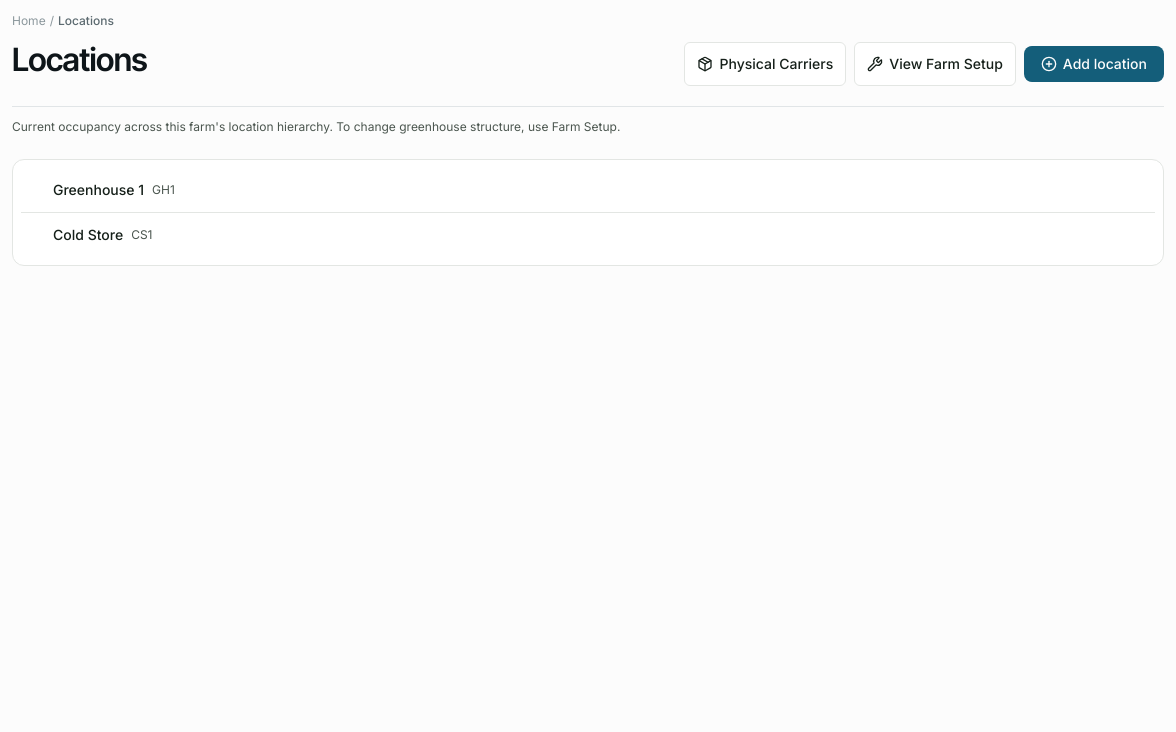
Test: LocationsPage › shows a friendly message on a 403 and never claims success
Expected: the text "Greenhouse 1" is shown, 53,180 -> 144,200
Click the button "Add location". click: (1094, 64)
box: 1024,46 -> 1164,82
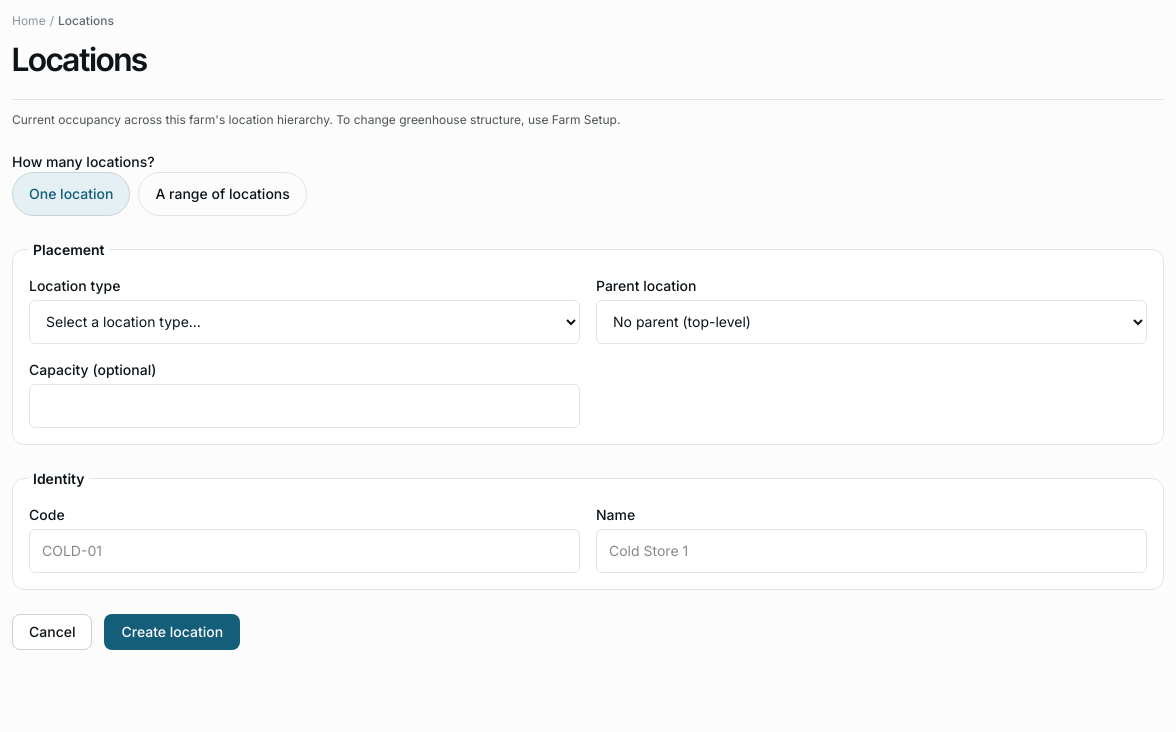
Select "Packing Hall" in the dropdown labelled "Location type". click: (304, 322)
box: 29,300 -> 580,344
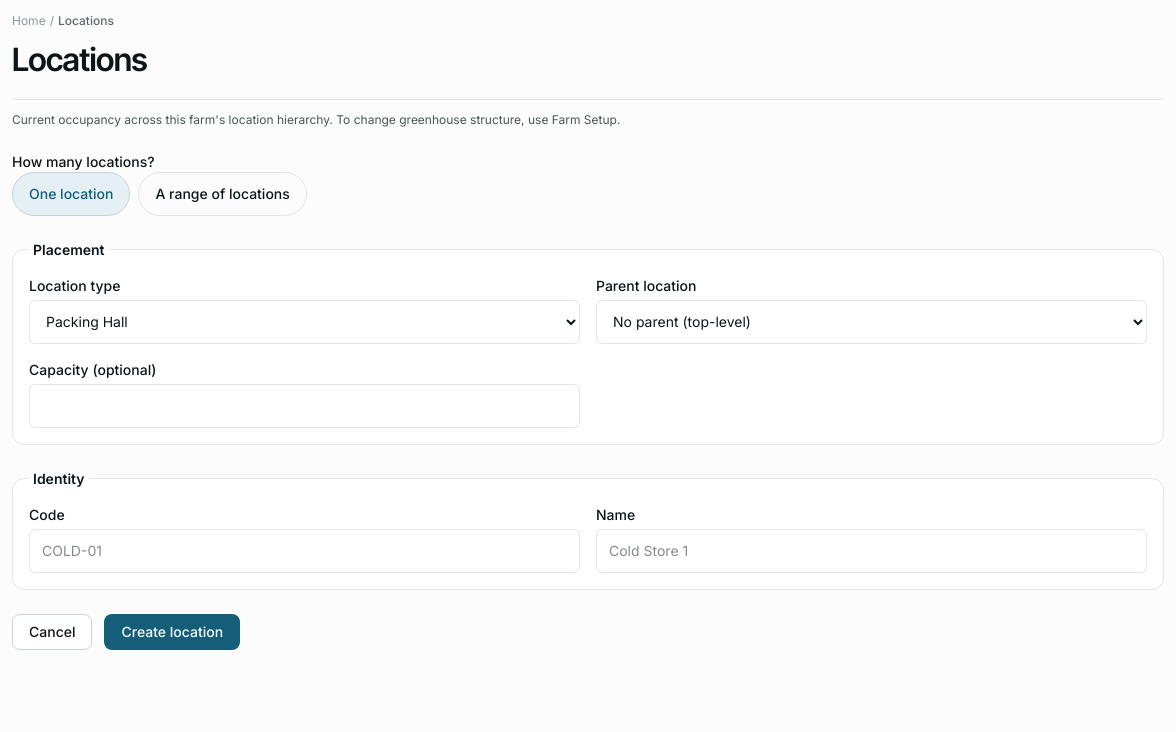
Type "PH1" into the field labelled "Code". click: (304, 551)
box: 29,529 -> 580,573
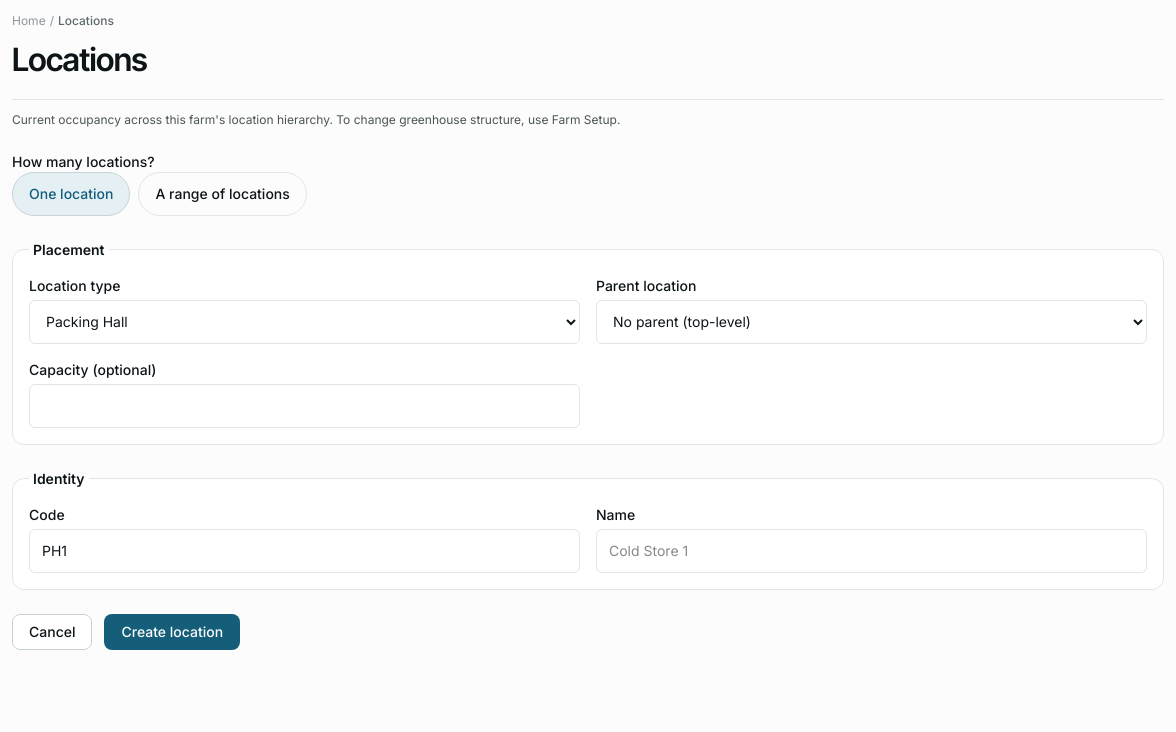
Type "Packing Hall 1" into the field labelled "Name". click: (872, 551)
box: 596,529 -> 1147,573
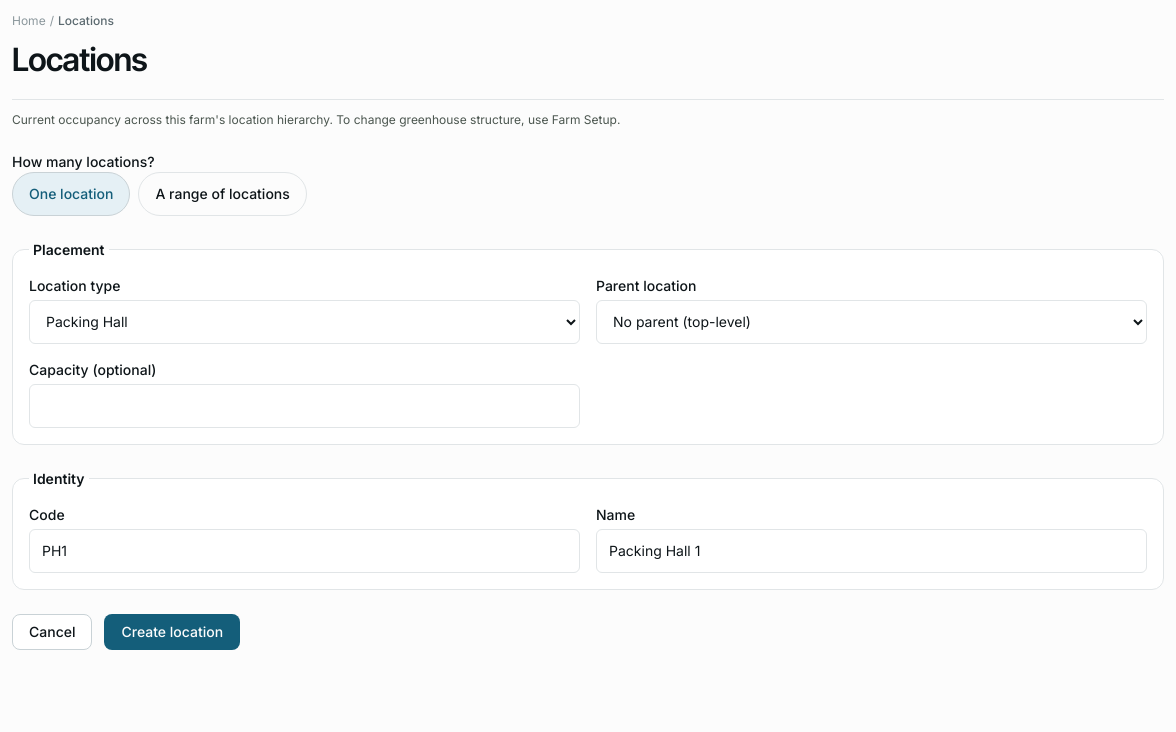
Click the button "Create location". click: (172, 632)
box: 104,614 -> 240,650
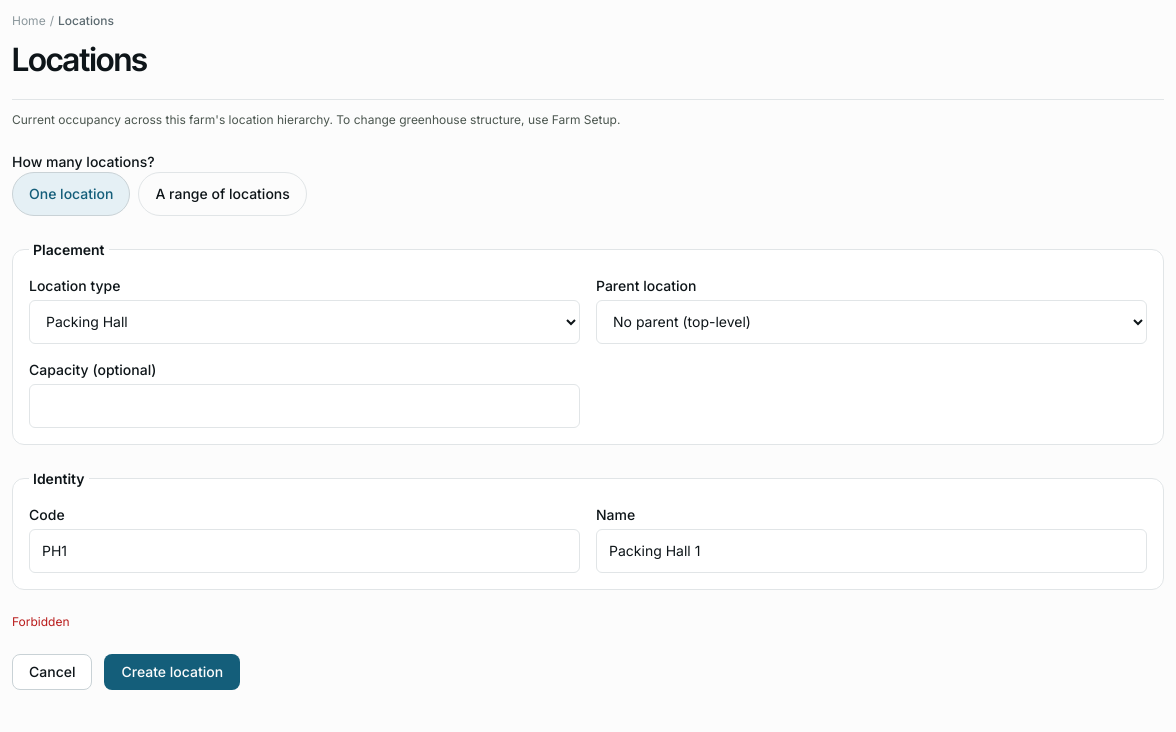
Now the text "Placement" is shown, box 29,240 -> 109,260
Now the message "Forbidden" is shown, box 12,614 -> 70,629
